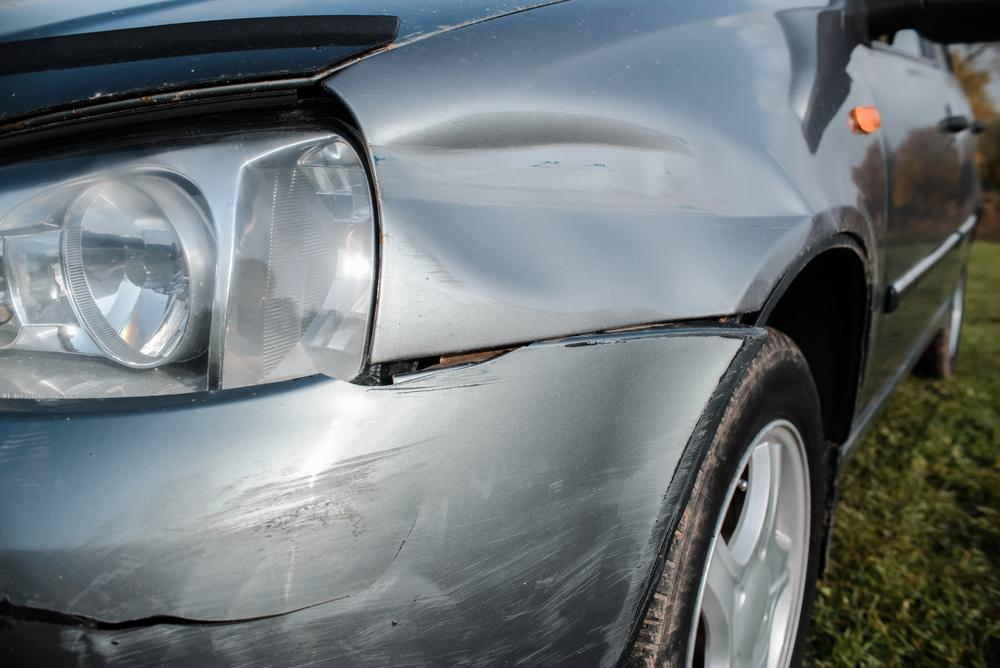crack: (0, 511, 423, 632)
dent: (371, 104, 811, 318)
scratch: (63, 418, 720, 668), (370, 370, 508, 391)
